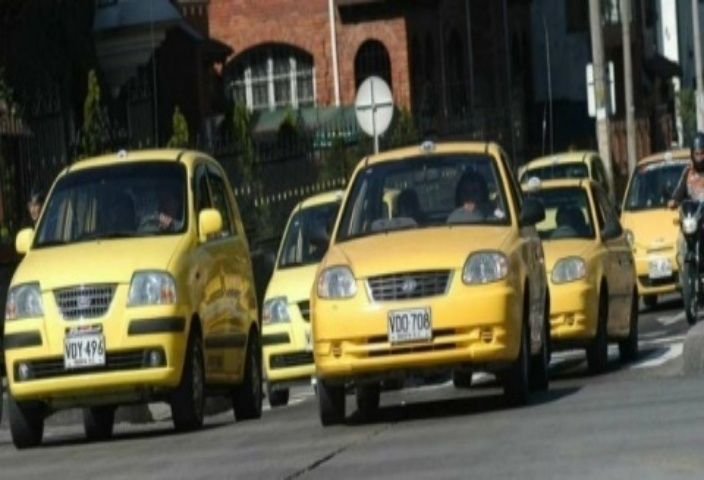motorcycle: (667, 121, 704, 327)
taxi: (7, 142, 267, 424), (303, 139, 567, 413), (504, 172, 667, 374), (276, 195, 359, 377), (629, 143, 704, 308)
